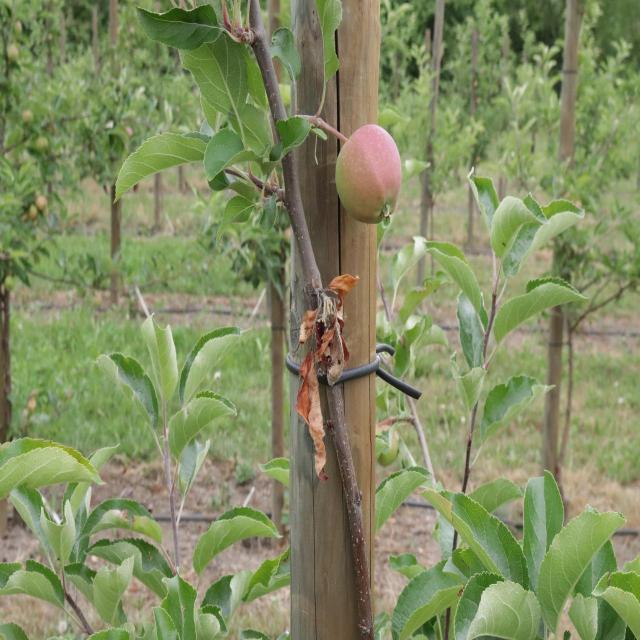-FireBlight-: (287, 270, 358, 488)
